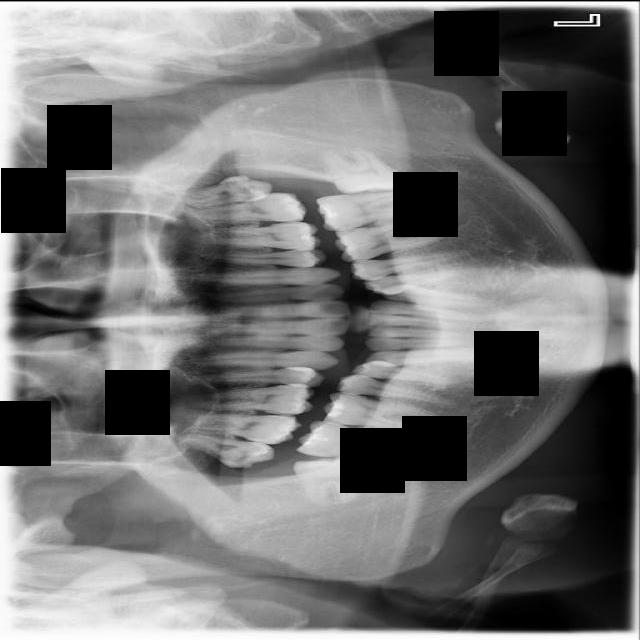3M ESPE Implant: (166, 425, 276, 474)
52: (294, 416, 359, 463), (314, 189, 366, 234), (332, 222, 387, 264), (265, 377, 316, 421), (271, 214, 323, 257), (321, 390, 375, 427), (243, 412, 303, 445), (249, 190, 308, 223), (274, 364, 325, 388), (223, 174, 264, 203), (276, 247, 326, 267), (336, 372, 375, 395), (229, 444, 257, 469)
73: (608, 15, 616, 28)
BioHorizons Implant: (177, 191, 307, 222)
BioLife Implant: (171, 170, 275, 210)
Biomet 3i Implant: (319, 138, 409, 200)
Blue Sky Bio Implant: (315, 186, 436, 232)
Caries: (171, 412, 302, 444)
Implant: (294, 418, 422, 465)
Keystone Dental Implant: (291, 452, 367, 509)
